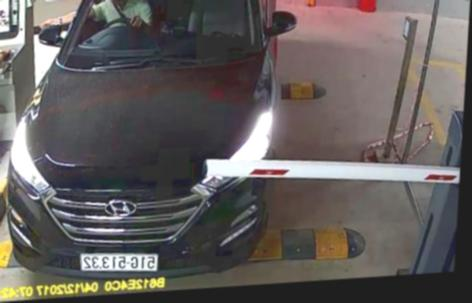License_Plate: (77, 246, 164, 276)
